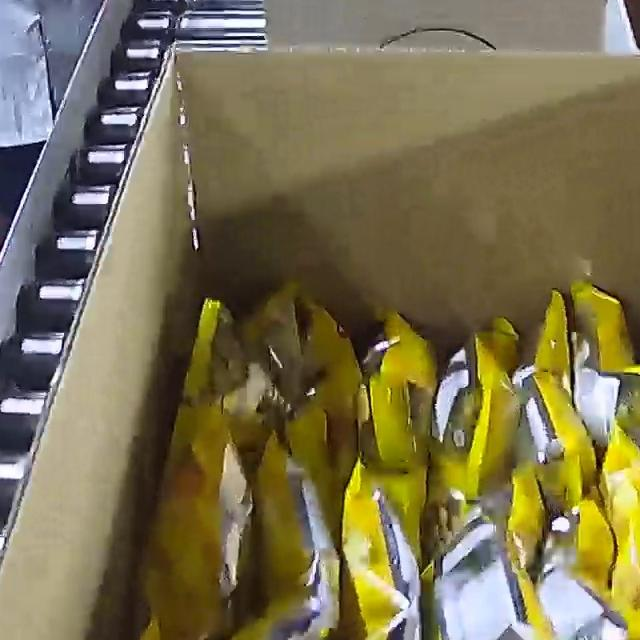salted: (120, 273, 640, 640)
